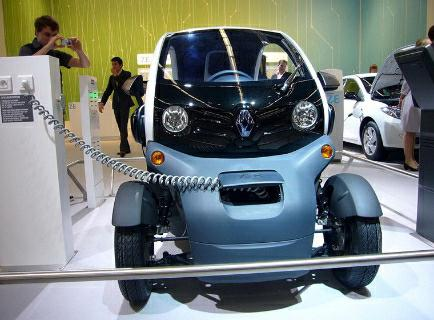雷诺-Twizy: (107, 26, 389, 304)
